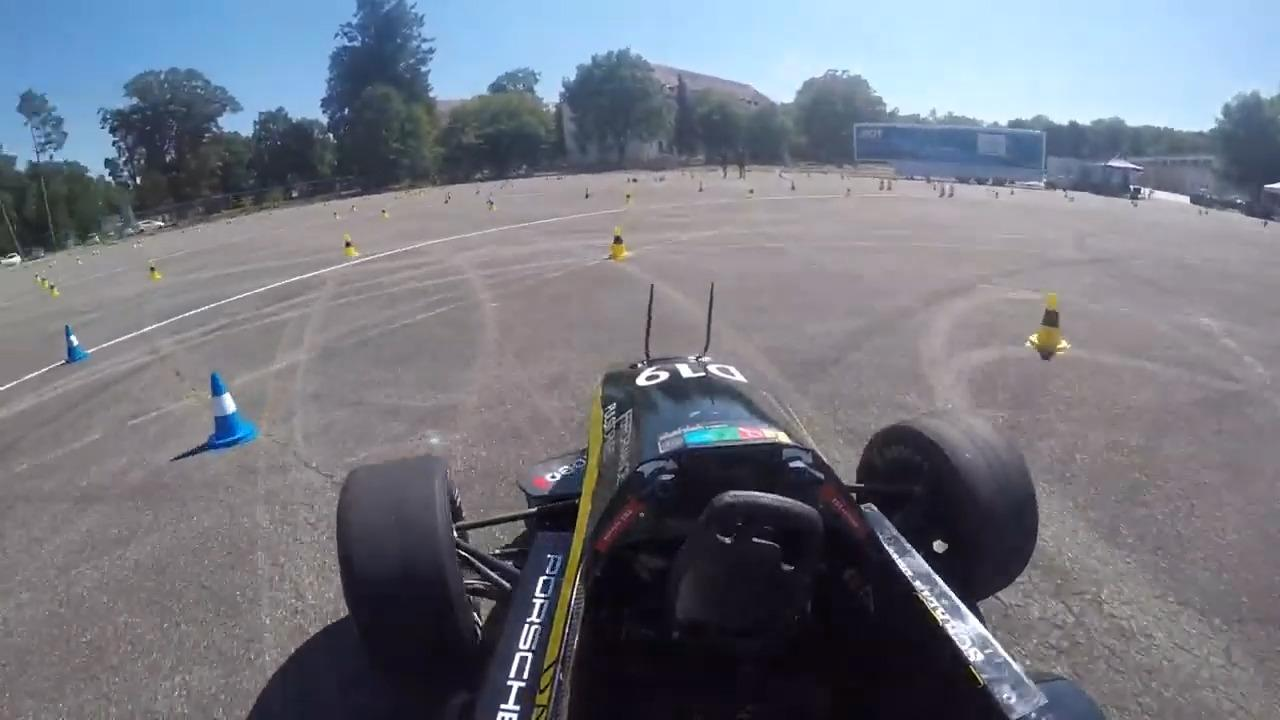blue_cone: (201, 369, 260, 450), (59, 320, 95, 365)
yellow_cone: (1026, 290, 1071, 357), (606, 224, 630, 260), (340, 232, 359, 257), (146, 260, 163, 284)
